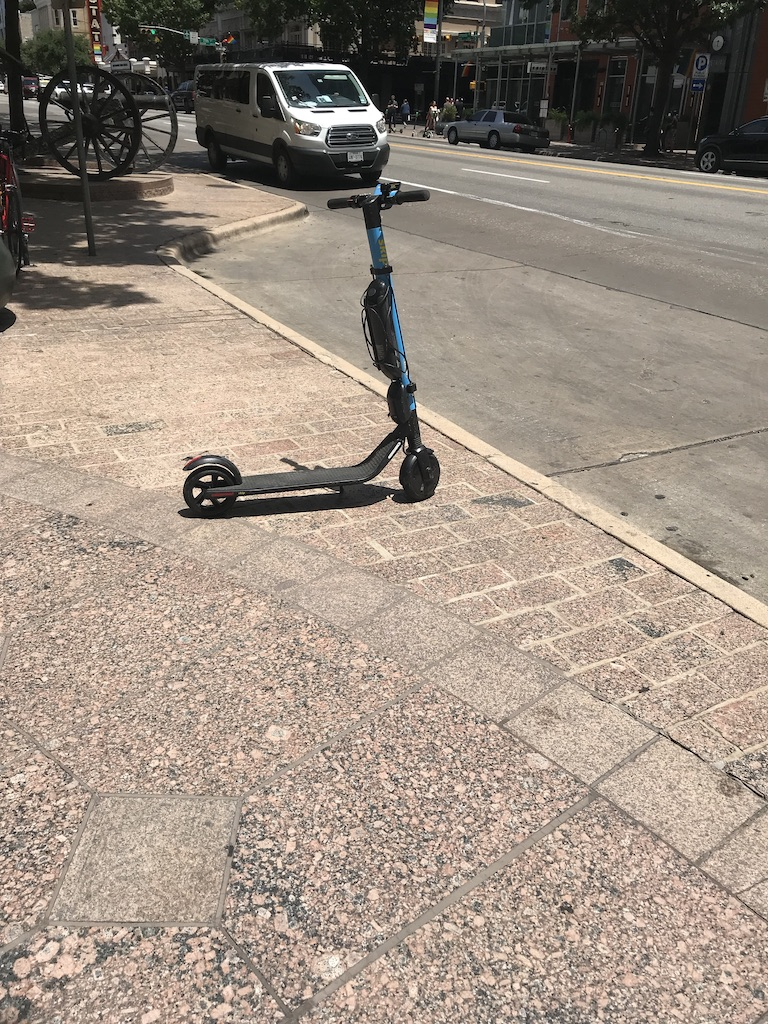scooter: (177, 185, 440, 512)
